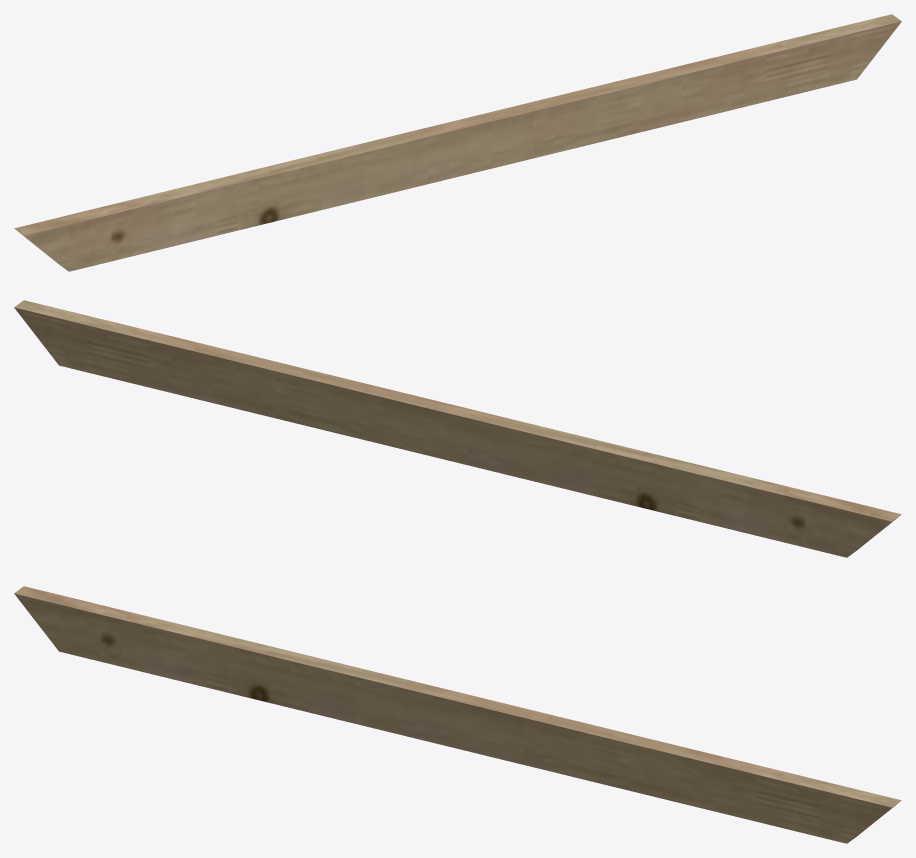
File: Joglo_part_393.fbx
3 renders of one model, top to bottom at view 1: azimuth 30°, elevation 25°; view 2: azimuth 150°, elevation 25°; view 3: azimuth 330°, elevation 25°, orthographic.
Visible parts, largest first — view 1: Mesh63_Wood___Pine_Grained_Horizontal_0.001; view 2: Mesh63_Wood___Pine_Grained_Horizontal_0.001; view 3: Mesh63_Wood___Pine_Grained_Horizontal_0.001.
Part boxes in pixels (x1=…): Mesh63_Wood___Pine_Grained_Horizontal_0.001: x1=14, y1=14, x2=901, y2=271; Mesh63_Wood___Pine_Grained_Horizontal_0.001: x1=14, y1=300, x2=901, y2=557; Mesh63_Wood___Pine_Grained_Horizontal_0.001: x1=14, y1=586, x2=901, y2=843.
Size of the model in its own units: 38.35 by 1.97 by 0.7507.
